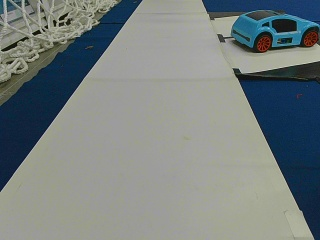car: (231, 11, 318, 51)
